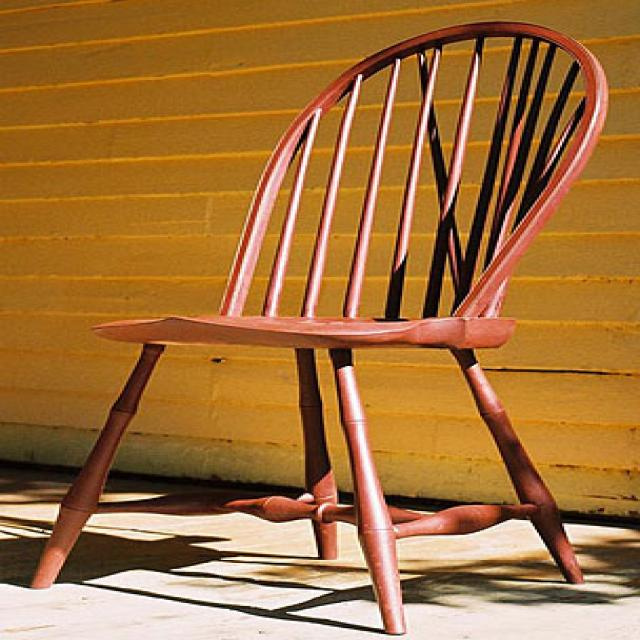chair: (28, 19, 608, 634)
